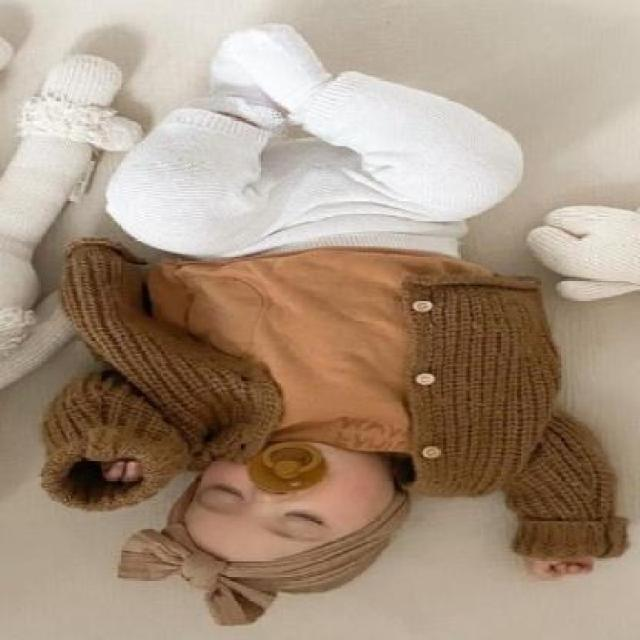baby: (39, 22, 624, 628)
